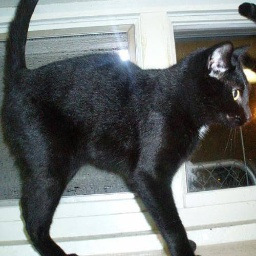cat: (0, 32, 256, 256)
